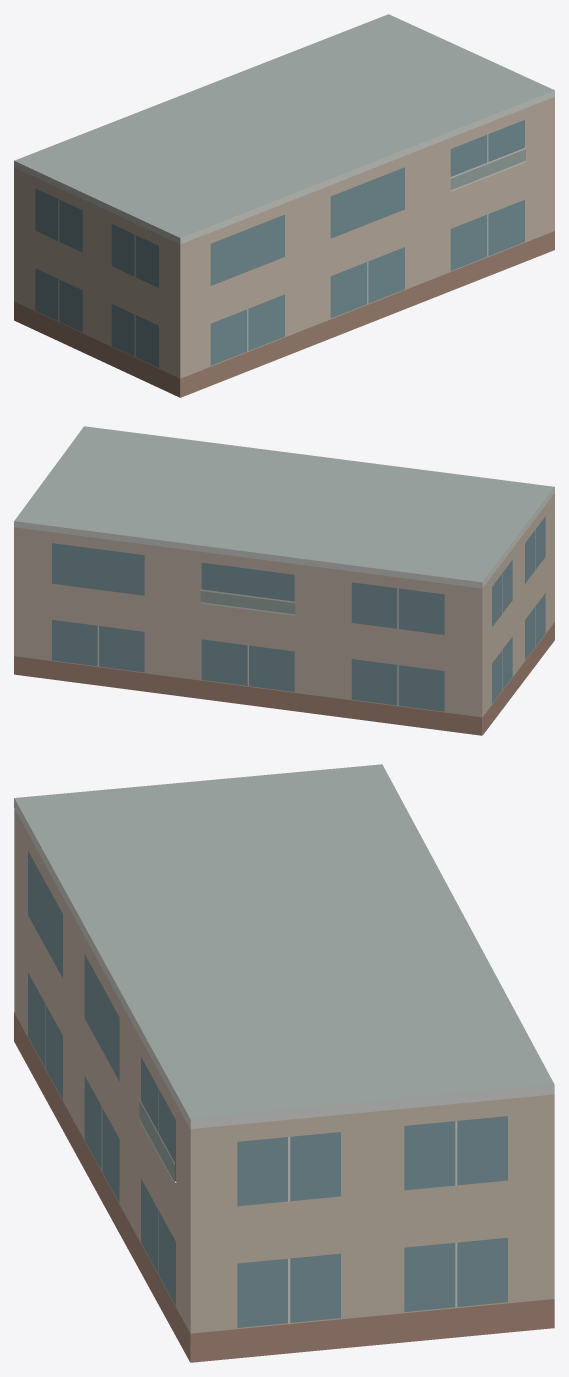
File: survey-upis-32973879.glb
The picture shows the model from 3 angles, top to bottom: view 1: azimuth 30°, elevation 25°; view 2: azimuth 150°, elevation 25°; view 3: azimuth 270°, elevation 25°; orthographic projection. The views are drawn at different scales.
Parts seen in each view (by area): view 1: survey-upis-32973879.tmp; view 2: survey-upis-32973879.tmp; view 3: survey-upis-32973879.tmp.
Boxes of the visible parts, x1=… form: survey-upis-32973879.tmp: x1=14, y1=14, x2=554, y2=397; survey-upis-32973879.tmp: x1=14, y1=426, x2=554, y2=735; survey-upis-32973879.tmp: x1=14, y1=764, x2=554, y2=1362.
Bounding box in the file's own units: 19.11 × 6.1 × 12.29.
